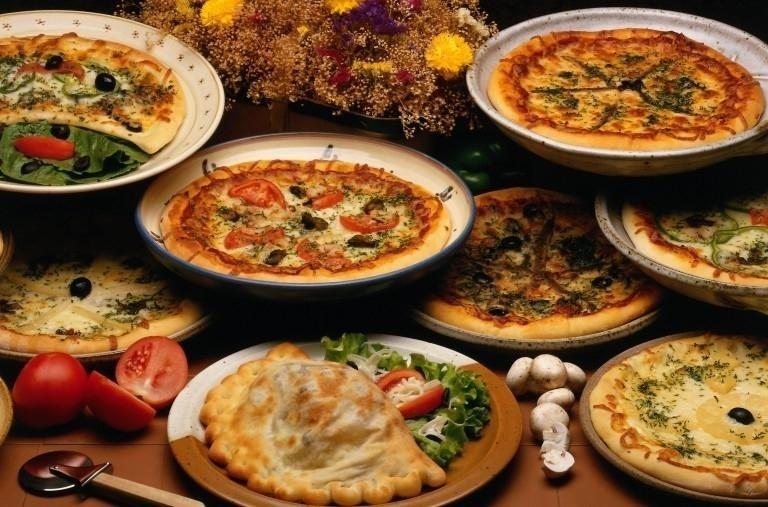pizza: (186, 158, 441, 277), (561, 37, 744, 151)
